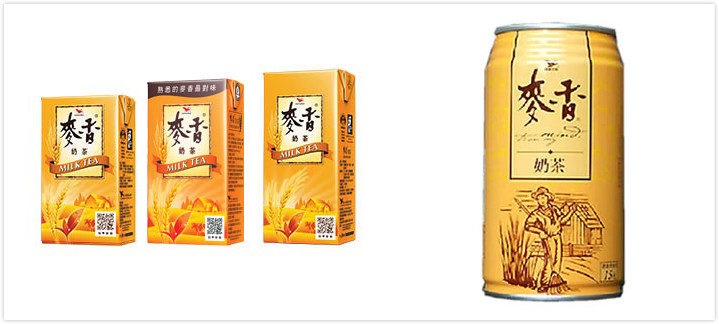milk tea: (259, 69, 361, 248), (146, 79, 246, 247), (39, 97, 137, 246)
